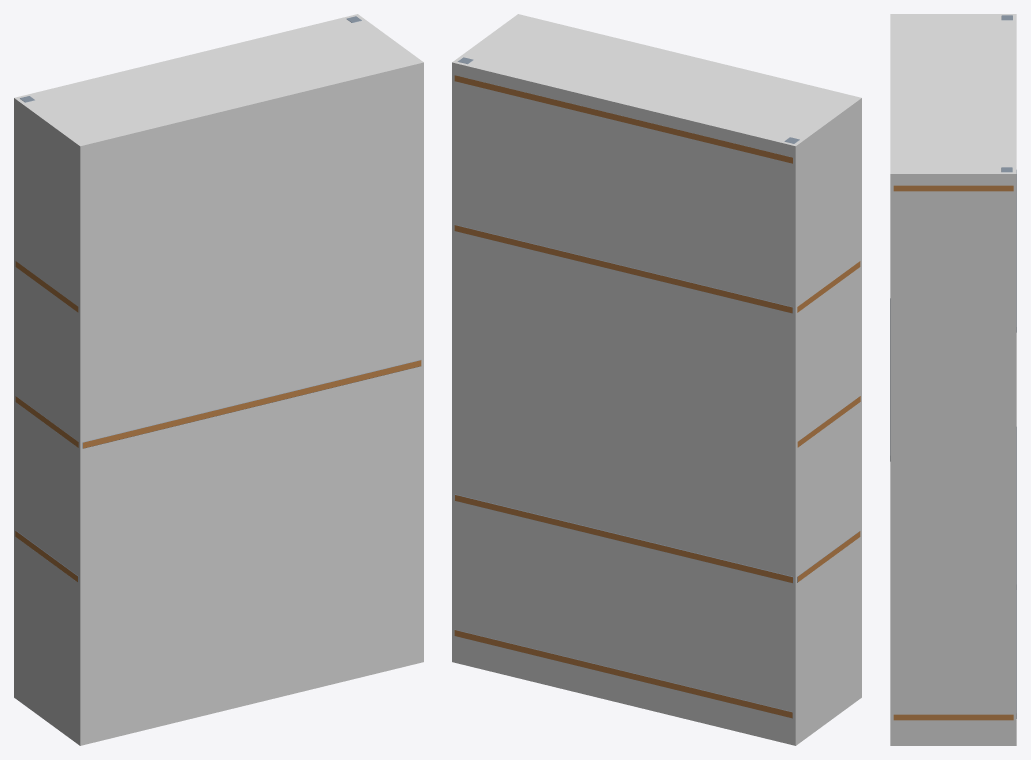
Rendered from prop_shelf_a.glb.
3 renders of one model, left to right at view 1: azimuth 30°, elevation 25°; view 2: azimuth 150°, elevation 25°; view 3: azimuth 270°, elevation 25°, orthographic. The views are drawn at different scales.
Visible parts, largest first — view 1: COL_prop_shelf_a_1, prop_shelf_a; view 2: COL_prop_shelf_a_1, prop_shelf_a; view 3: COL_prop_shelf_a_1, prop_shelf_a.
Part boxes in pixels (left/top/right/bottom): COL_prop_shelf_a_1: left=14, top=14, right=423, bottom=745; prop_shelf_a: left=15, top=16, right=421, bottom=582; COL_prop_shelf_a_1: left=452, top=14, right=861, bottom=745; prop_shelf_a: left=454, top=57, right=860, bottom=718; COL_prop_shelf_a_1: left=890, top=14, right=1016, bottom=745; prop_shelf_a: left=890, top=15, right=1016, bottom=720.
Size of the model in its own units: 1.2 by 2 by 0.4023.
